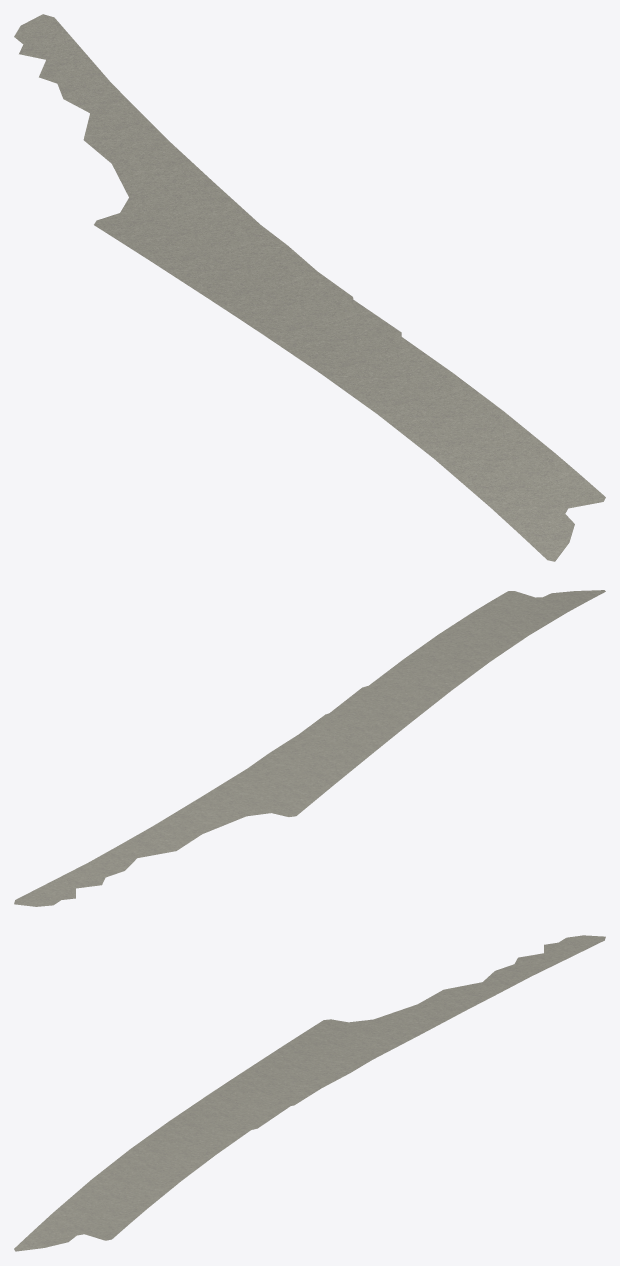
The model's file is path_04.glb.
3 renders of one model, top to bottom at view 1: azimuth 30°, elevation 25°; view 2: azimuth 150°, elevation 25°; view 3: azimuth 330°, elevation 25°, orthographic. The views are drawn at different scales.
Parts seen in each view (by area): view 1: path_04.surface; view 2: path_04.surface; view 3: path_04.surface.
Boxes of the visible parts, x1=… form: path_04.surface: x1=14, y1=14, x2=605, y2=561; path_04.surface: x1=14, y1=590, x2=605, y2=906; path_04.surface: x1=14, y1=935, x2=605, y2=1251.
Size of the model in its own units: 4.06 by 0.488 by 25.96.
1 material, 1 textured.
